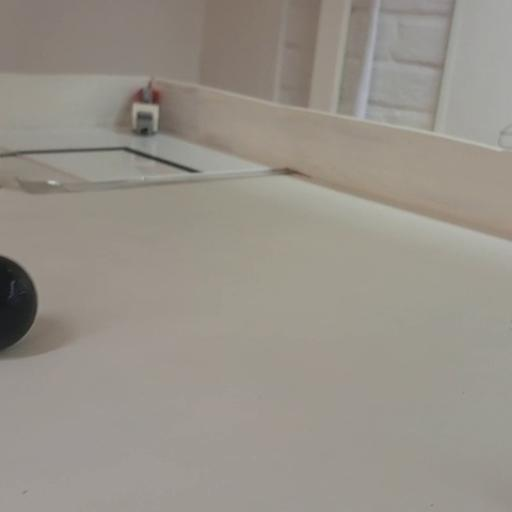dead: (0, 251, 38, 353)
